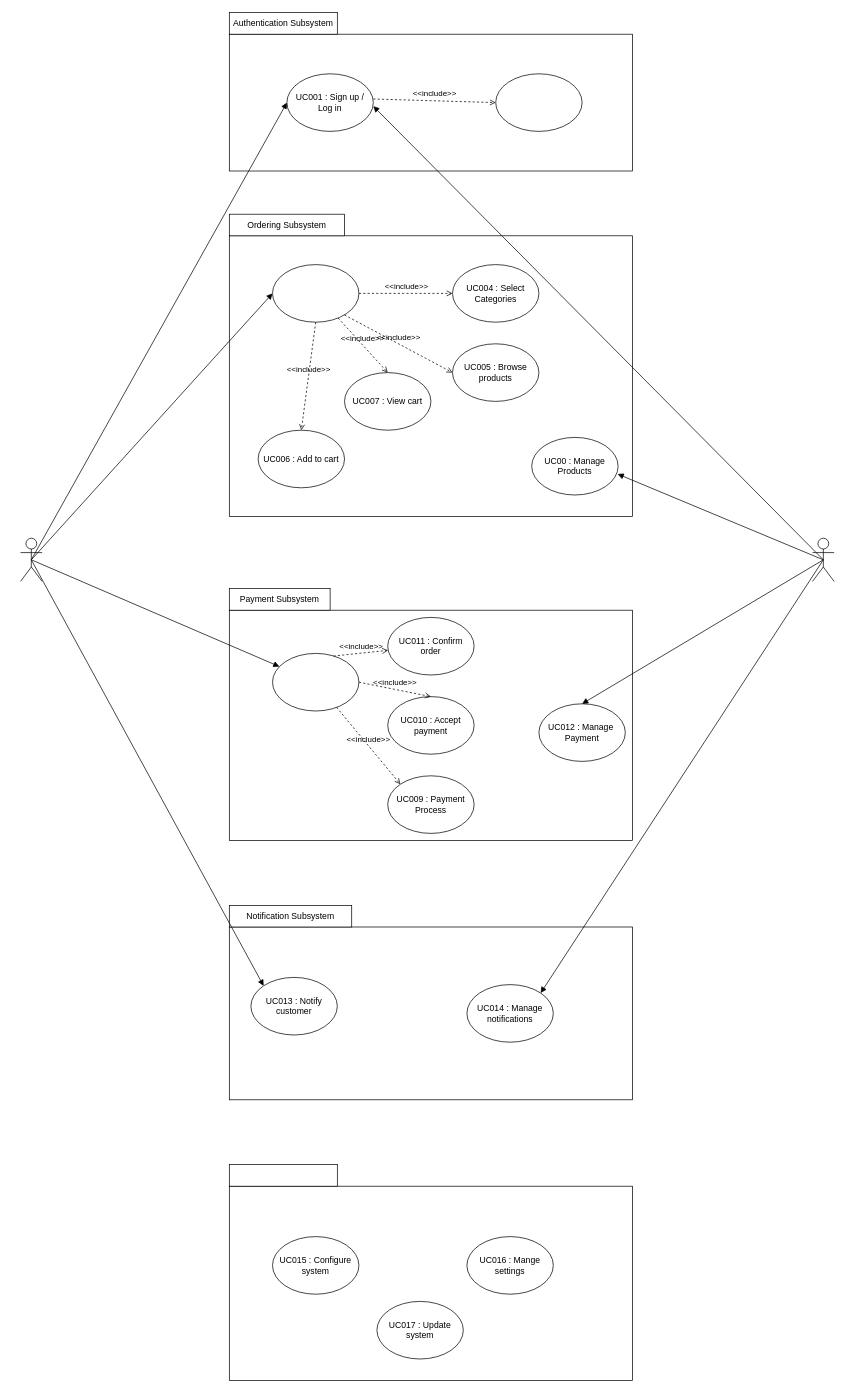
Image size: 847x1393. Some labels were removed from this diagram. Each missing label, with the box of its shape:
Admin: (812, 537, 834, 581)
Admin Subsystem: (229, 1164, 337, 1186)
Customer: (20, 537, 42, 581)
UC002 : Password: (495, 73, 582, 131)
UC003 : View Product Categories: (272, 264, 359, 322)
UC008 : Place order: (272, 653, 359, 711)
